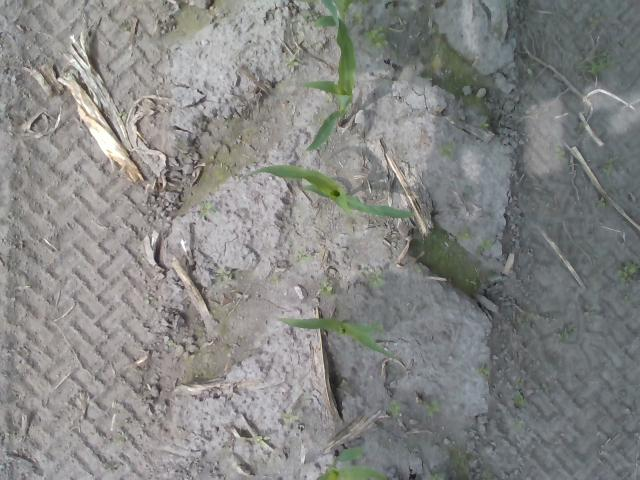Maize: (247, 158, 416, 223), (302, 0, 361, 152), (275, 308, 411, 373), (313, 443, 387, 480)
Weeds: (616, 261, 640, 290), (586, 54, 612, 76), (362, 29, 388, 48), (604, 154, 622, 176), (318, 280, 334, 299), (368, 272, 384, 289), (387, 399, 402, 417), (288, 54, 302, 72), (463, 274, 480, 288), (558, 325, 576, 338), (424, 401, 439, 416), (438, 143, 454, 157), (512, 392, 526, 407), (478, 116, 492, 131), (216, 267, 232, 280), (282, 411, 298, 423), (199, 203, 215, 214), (256, 435, 272, 446), (596, 196, 608, 210), (163, 336, 174, 350), (478, 238, 493, 248), (552, 146, 564, 157), (115, 110, 127, 120), (144, 293, 154, 305), (478, 367, 490, 377), (431, 472, 446, 480), (353, 14, 362, 25), (462, 233, 471, 240)
